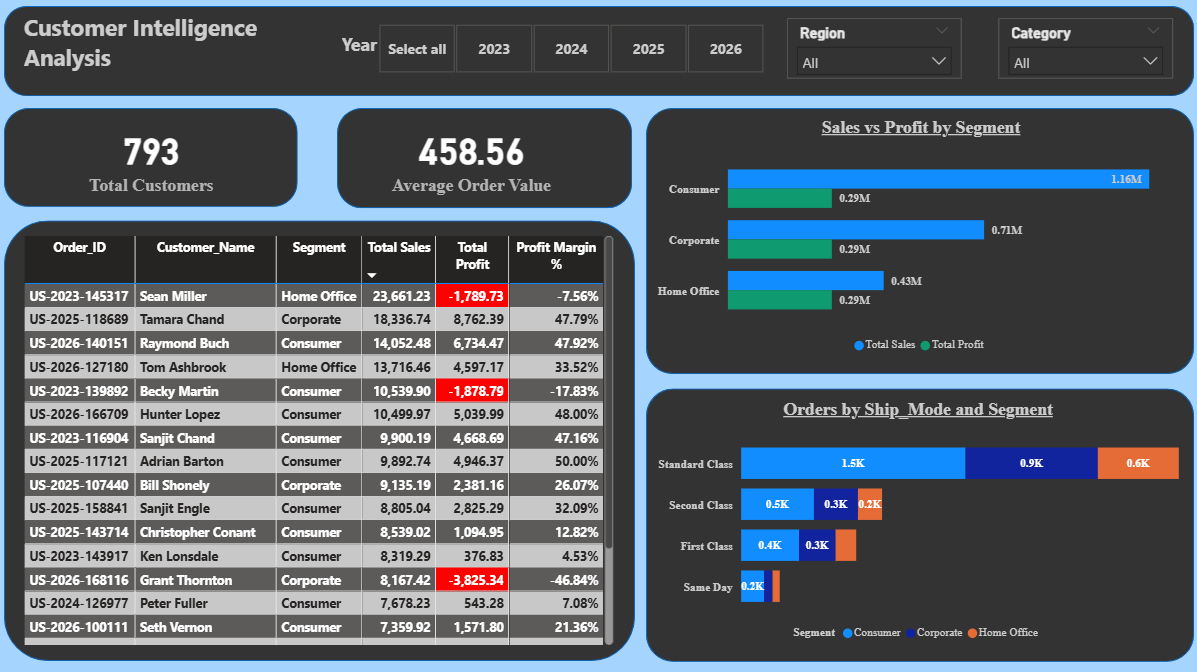

Layout of this report page (visuals, bound fields, positions):
{"tool":"powerbi","page":{"name":"Customer Intelligence Analysis","canvas":[1280,720],"ordinal":3},"visuals":[{"type":"shape","box":[9.4,9.4,1259.4,95.3],"z":0},{"type":"slicer","fields":{"Values":["DimDate.Year"]},"box":[381.2,21.9,456.2,64.1],"z":1000},{"type":"slicer","fields":{"Values":["fact_sales.Region"]},"box":[837.5,21.9,184.4,64.1],"z":2000},{"type":"slicer","fields":{"Values":["fact_sales.Category"]},"box":[1062.5,21.9,184.4,64.1],"z":3000},{"type":"textbox","box":[26.2,9.2,270.8,95.4],"z":4000},{"type":"shape","box":[9.2,116.9,310.8,104.6],"z":5000},{"type":"shape","box":[361.5,116.9,312.3,106.2],"z":6000},{"type":"shape","box":[9.2,236.9,667.7,466.2],"z":7000},{"type":"shape","box":[689.2,116.9,580,281.5],"z":8000},{"type":"shape","box":[689.2,413.8,580,289.2],"z":9000},{"type":"card","fields":{"Values":["Measure.Total Customers"]},"box":[12.3,116.9,304.6,104.6],"z":10000},{"type":"card","fields":{"Values":["Measure.Average Order Value"]},"box":[398.5,116.9,210.8,104.6],"z":11000},{"type":"clusteredBarChart","title":"Sales vs Profit by Segment","fields":{"Category":["vw_Sales_Summary.Segment"],"Y":["Sum(vw_Sales_Summary.Total Sales)","Measure.Total Profit"]},"box":[695.4,127.7,569.2,260],"z":12000},{"type":"barChart","title":"Orders by Ship_Mode and Segment","fields":{"Category":["fact_sales.Ship_Mode"],"Y":["Measure.Total Orders"],"Series":["fact_sales.Segment"]},"box":[695.4,424.6,563.1,266.2],"z":13000},{"type":"tableEx","fields":{"Values":["fact_sales.Order_ID","fact_sales.Customer_Name","fact_sales.Segment","Measure.Total Sales","Measure.Total Profit","Measure.Profit Margin %"]},"box":[26.2,247.7,633.8,443.1],"z":14000},{"type":"textbox","box":[361.5,32.3,64.6,41.5],"z":15000}]}

Visuals, with their boxes in screenshot pixels (x1, y1, x2, y2), scaled from the page's 1280x720 canvas onto the 1197x672 screenshot:
shape: bbox=[9, 9, 1187, 98]
slicer - DimDate.Year: bbox=[356, 20, 783, 80]
slicer - fact_sales.Region: bbox=[783, 20, 956, 80]
slicer - fact_sales.Category: bbox=[994, 20, 1166, 80]
textbox: bbox=[25, 9, 278, 98]
shape: bbox=[9, 109, 299, 207]
shape: bbox=[338, 109, 630, 208]
shape: bbox=[9, 221, 633, 656]
shape: bbox=[645, 109, 1187, 372]
shape: bbox=[645, 386, 1187, 656]
card - Measure.Total Customers: bbox=[12, 109, 296, 207]
card - Measure.Average Order Value: bbox=[373, 109, 570, 207]
"Sales vs Profit by Segment" clusteredBarChart: bbox=[650, 119, 1183, 362]
"Orders by Ship_Mode and Segment" barChart: bbox=[650, 396, 1177, 645]
tableEx - fact_sales.Order_ID x fact_sales.Customer_Name: bbox=[25, 231, 617, 645]
textbox: bbox=[338, 30, 398, 69]
